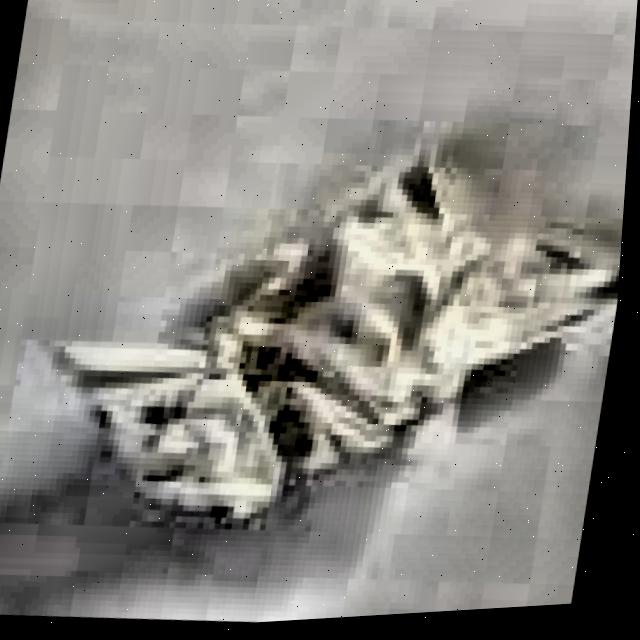paper: (19, 80, 634, 579)
